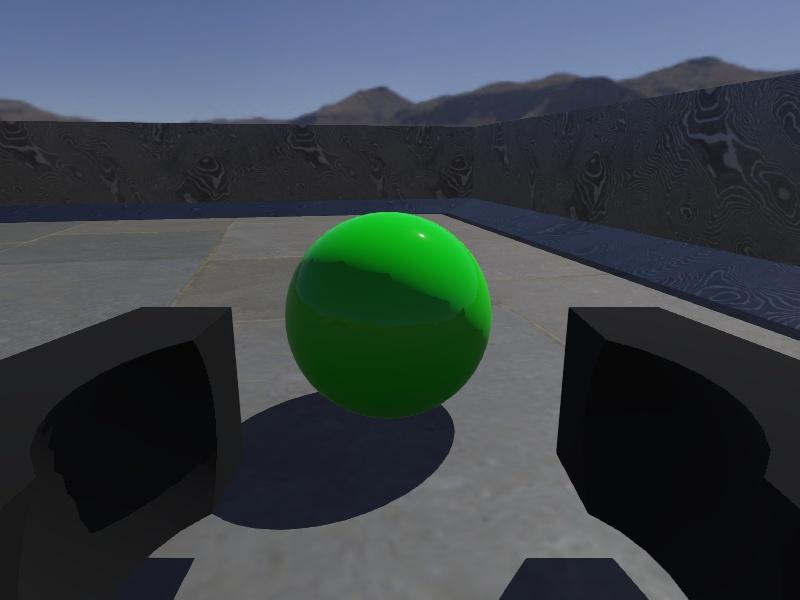green ball: (284, 211, 492, 421)
